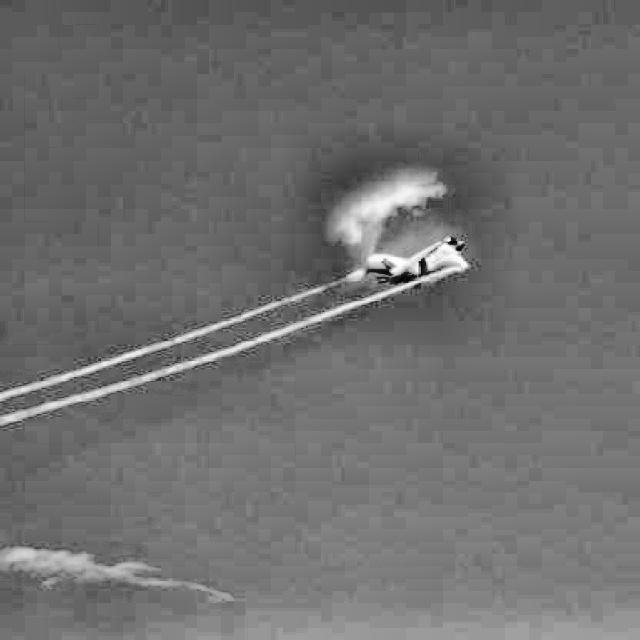F35: (369, 237, 471, 289)
